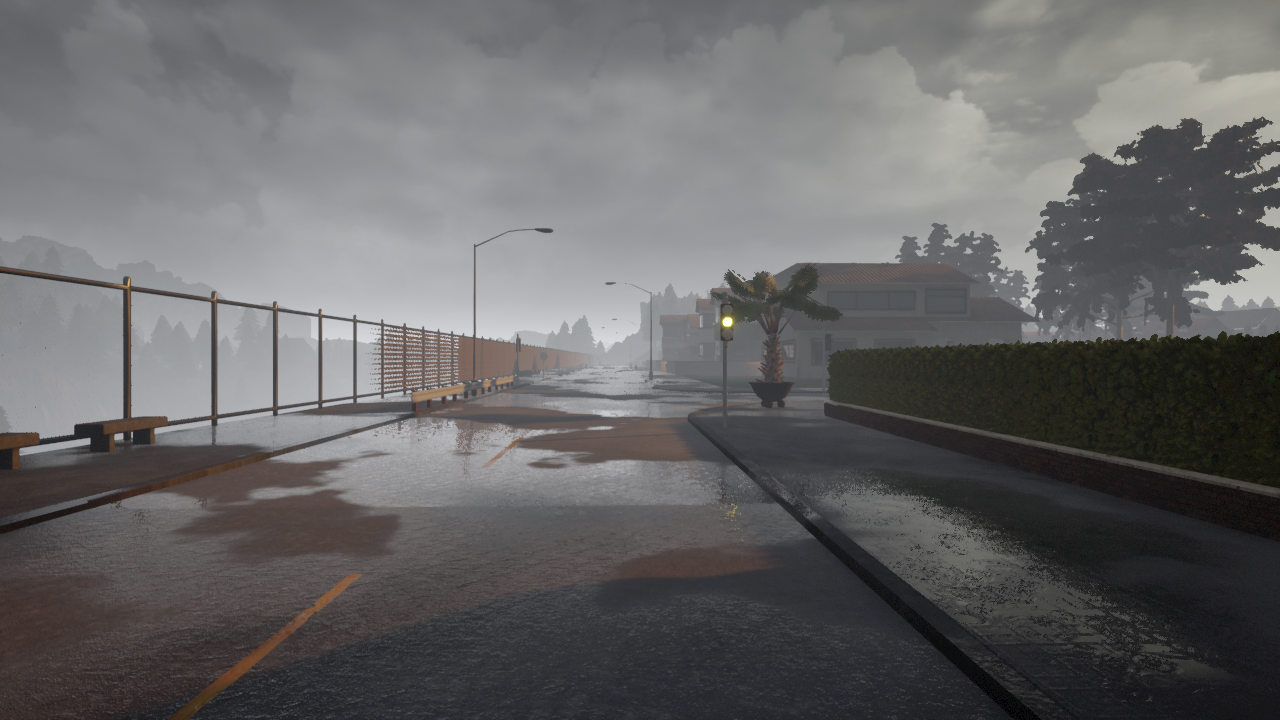yellow: (719, 302, 734, 343)
